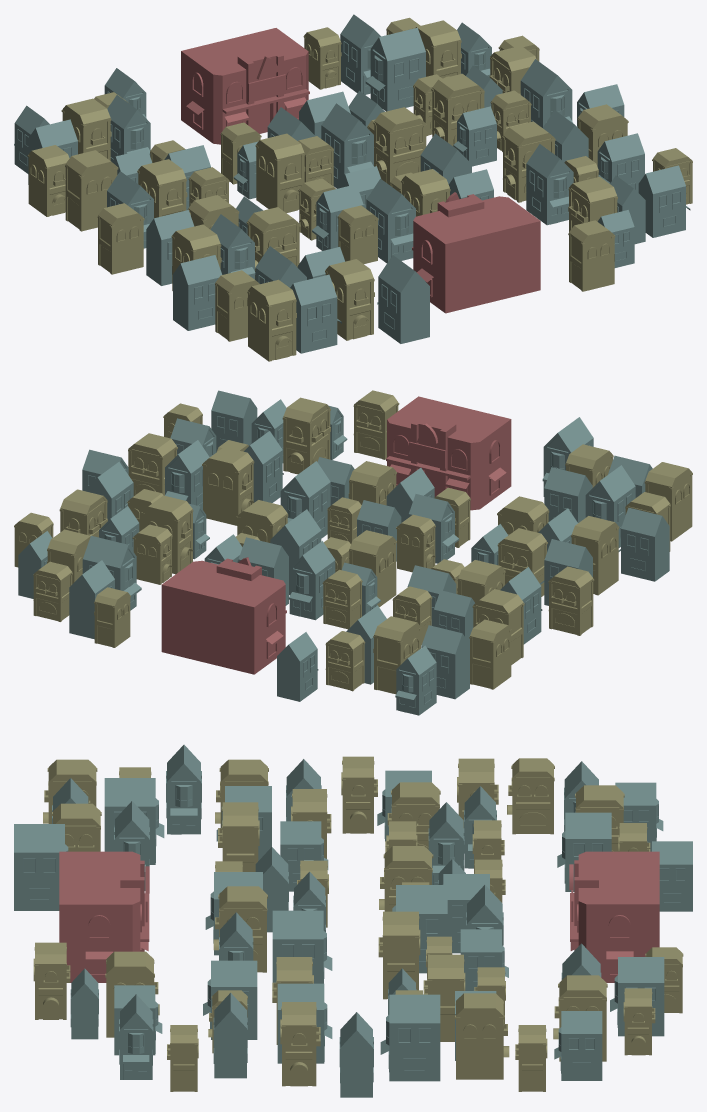
Rendered from Buildings.fbx.
3 renders of one model, top to bottom at view 1: azimuth 30°, elevation 25°; view 2: azimuth 150°, elevation 25°; view 3: azimuth 270°, elevation 25°, orthographic. The views are drawn at different scales.
Visible parts, largest first — view 1: PizzaRestaurant, PizzaRestaurant1, House50, House48, House06, House45, House33, House13, House05, House01, House19, House67 (+58 smaller); view 2: PizzaRestaurant1, PizzaRestaurant, House63, House19, House58, House20, House25, House46, House26, House24, House10, House06 (+62 smaller); view 3: PizzaRestaurant, PizzaRestaurant1, House64, House71, House48, House25, House74, House54, House32, House19, House33, House02 (+56 smaller).
Boxes of the visible parts, <box> form: PizzaRestaurant: <box>412,192,540,313</box>; PizzaRestaurant1: <box>181,28,309,144</box>; House50: <box>365,27,425,111</box>; House48: <box>377,255,429,343</box>; House06: <box>247,279,296,361</box>; House45: <box>255,133,305,212</box>; House33: <box>373,107,426,185</box>; House13: <box>65,150,118,231</box>; House05: <box>290,274,341,353</box>; House01: <box>325,259,374,340</box>; House19: <box>173,255,222,330</box>; House67: <box>526,144,573,225</box>; PizzaRestaurant1: <box>161,557,286,674</box>; PizzaRestaurant: <box>386,396,511,510</box>; House63: <box>202,447,254,525</box>; House19: <box>618,507,669,581</box>; House58: <box>282,397,330,474</box>; House20: <box>548,566,594,635</box>; House25: <box>469,619,511,689</box>; House46: <box>288,541,335,620</box>; House26: <box>373,616,421,694</box>; House24: <box>421,625,469,699</box>; House10: <box>571,516,619,595</box>; House06: <box>644,462,692,541</box>; PizzaRestaurant: <box>59,851,149,982</box>; PizzaRestaurant1: <box>569,851,659,982</box>; House64: <box>380,994,440,1081</box>; House71: <box>455,993,509,1079</box>; House48: <box>14,824,68,910</box>; House25: <box>507,758,554,834</box>; House74: <box>280,1002,320,1086</box>; House54: <box>554,1011,602,1080</box>; House32: <box>272,910,332,983</box>; House19: <box>166,744,201,834</box>; House33: <box>378,911,420,999</box>; House02: <box>104,778,164,864</box>.
Bounding box in the file's own units: 52.87 × 8.25 × 53.38.
